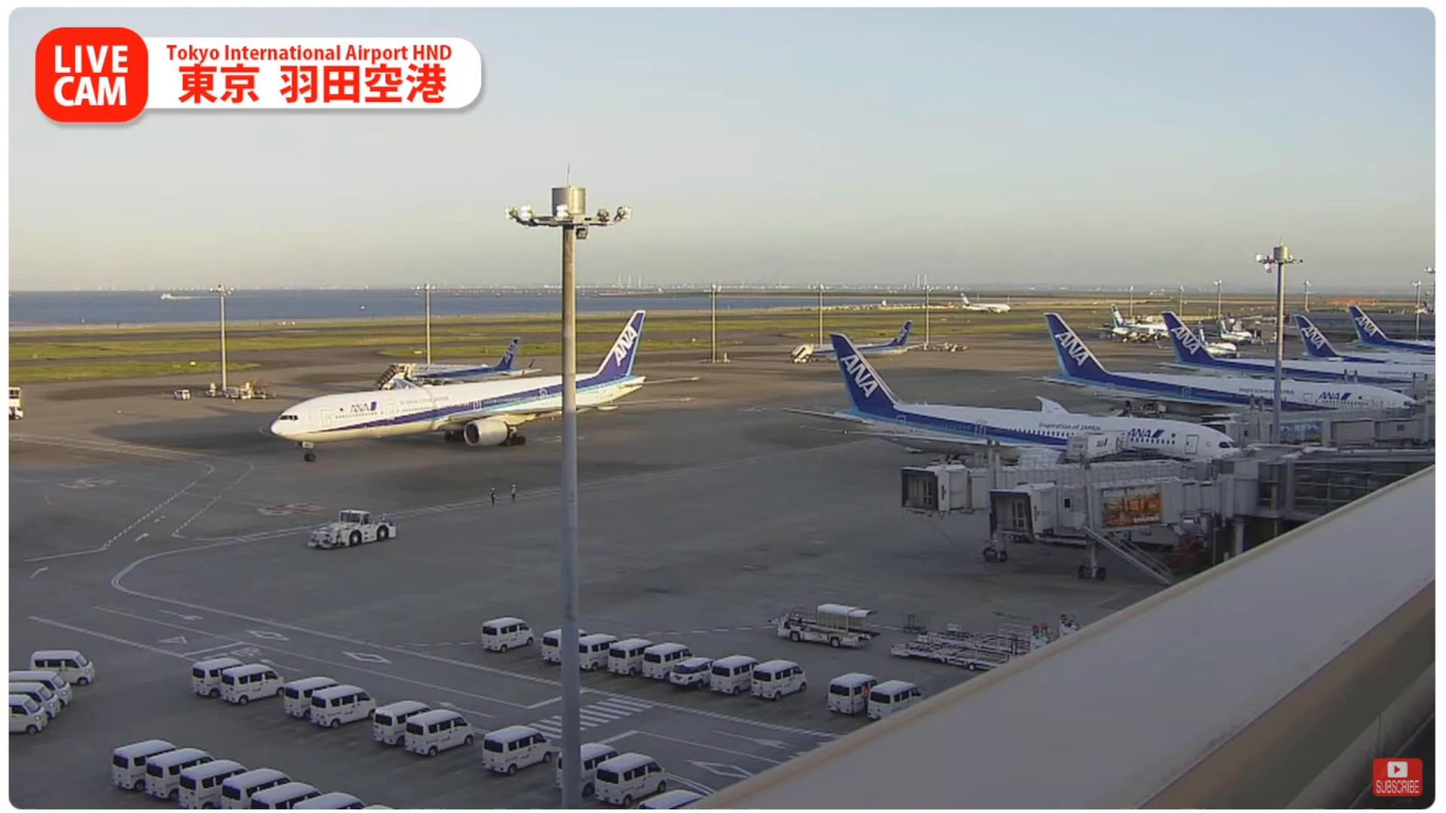APS: (308, 510, 398, 548)
Aerobridge: (899, 437, 1211, 565), (989, 453, 1262, 587)
Airplane: (269, 309, 700, 463)
JCPL: (892, 633, 1051, 670), (919, 618, 1080, 650)
Skyloader: (777, 599, 879, 648)
Window: (1291, 461, 1433, 515)
